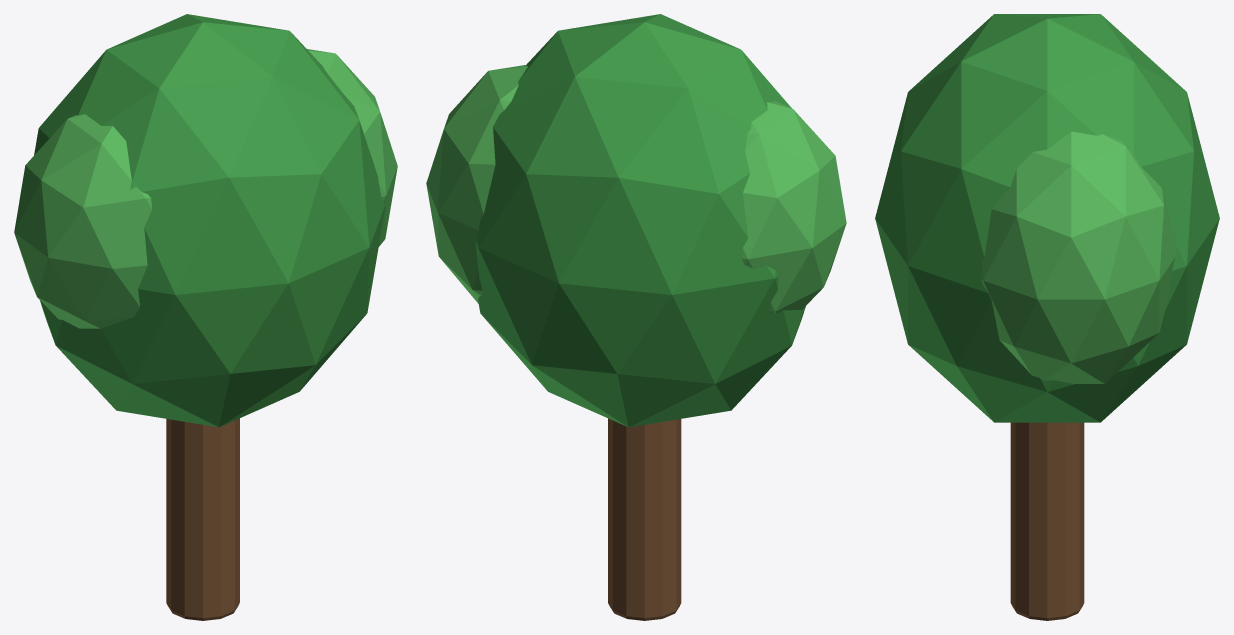
File: tree_lush.glb
3 renders of one model, left to right at view 1: azimuth 30°, elevation 25°; view 2: azimuth 150°, elevation 25°; view 3: azimuth 270°, elevation 25°, orthographic.
Visible parts, largest first — view 1: Crown_A, Crown_C, Trunk, Crown_B; view 2: Crown_A, Crown_C, Trunk, Crown_B; view 3: Crown_A, Crown_B, Trunk.
Part boxes in pixels (box(x1,y1,x2,y2)): Crown_A: box(34, 14, 385, 427); Crown_C: box(14, 114, 152, 328); Trunk: box(166, 418, 239, 620); Crown_B: box(307, 49, 397, 246); Crown_A: box(475, 14, 805, 427); Crown_C: box(742, 101, 846, 313); Trunk: box(608, 418, 681, 620); Crown_B: box(426, 65, 528, 303); Crown_A: box(875, 14, 1219, 422); Crown_B: box(981, 131, 1175, 383); Trunk: box(1010, 422, 1084, 620).
Bounding box in the file's own units: 3.24 × 4.92 × 2.61.
